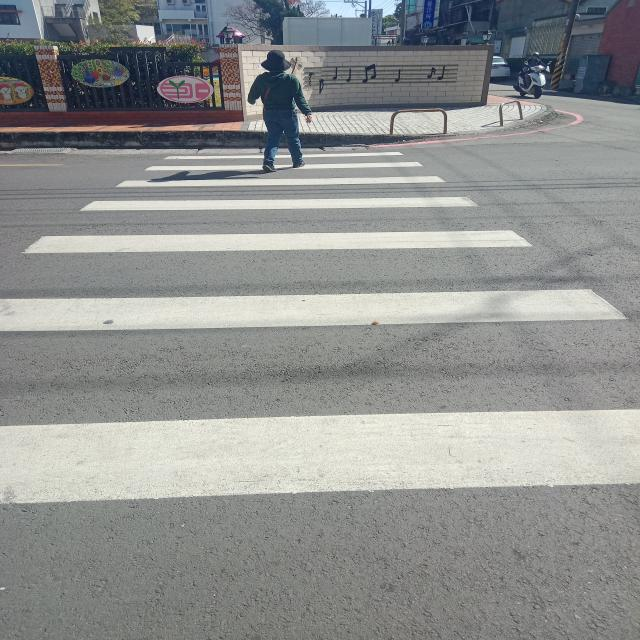person: (248, 50, 312, 172), (518, 52, 547, 85)
zebra crossing: (3, 145, 640, 507)
